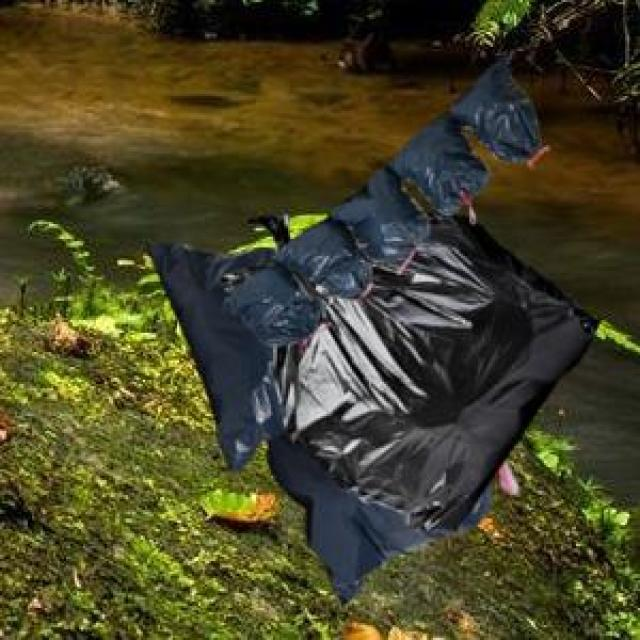Trashbag: (462, 58, 548, 159), (345, 168, 426, 262), (400, 124, 480, 205), (289, 220, 365, 299), (228, 274, 308, 346)
